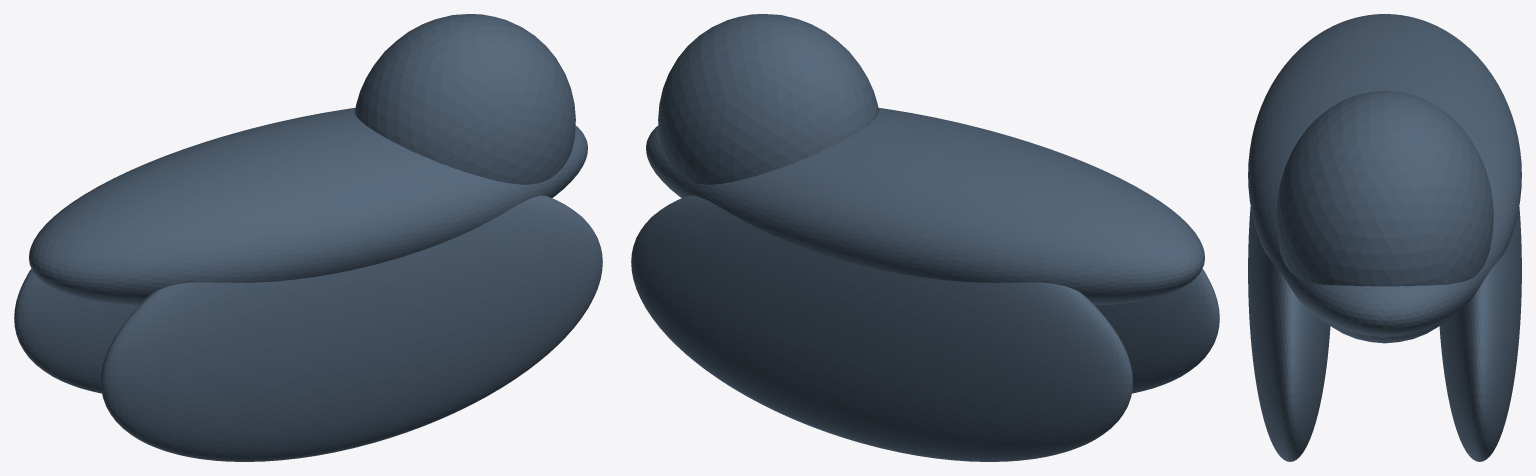
Rendered from lightweight-rug-template.glb.
3 views of the same model, side by side, from view 1: azimuth 30°, elevation 25°; view 2: azimuth 150°, elevation 25°; view 3: azimuth 270°, elevation 25° (orthographic). The views are drawn at different scales.
Visible parts, largest first — view 1: gear_2_Rug_Side_1, gear_0_Rug_Top, gear_3_Rug_Neck, gear_1_Rug_Side_-1; view 2: gear_1_Rug_Side_-1, gear_0_Rug_Top, gear_3_Rug_Neck, gear_2_Rug_Side_1; view 3: gear_3_Rug_Neck, gear_0_Rug_Top, gear_1_Rug_Side_-1, gear_2_Rug_Side_1.
Part boxes in pixels (x1,y1,x2,y2): gear_2_Rug_Side_1: [101, 195, 602, 461]; gear_0_Rug_Top: [29, 107, 587, 305]; gear_3_Rug_Neck: [354, 14, 575, 184]; gear_1_Rug_Side_-1: [14, 269, 138, 393]; gear_1_Rug_Side_-1: [631, 195, 1132, 461]; gear_0_Rug_Top: [646, 107, 1204, 305]; gear_3_Rug_Neck: [658, 14, 879, 184]; gear_2_Rug_Side_1: [1095, 269, 1219, 393]; gear_3_Rug_Neck: [1276, 90, 1493, 343]; gear_0_Rug_Top: [1248, 14, 1521, 336]; gear_1_Rug_Side_-1: [1439, 207, 1521, 461]; gear_2_Rug_Side_1: [1248, 207, 1330, 461].
Bounding box in the file's own units: 1.96 × 1.22 × 0.78.
